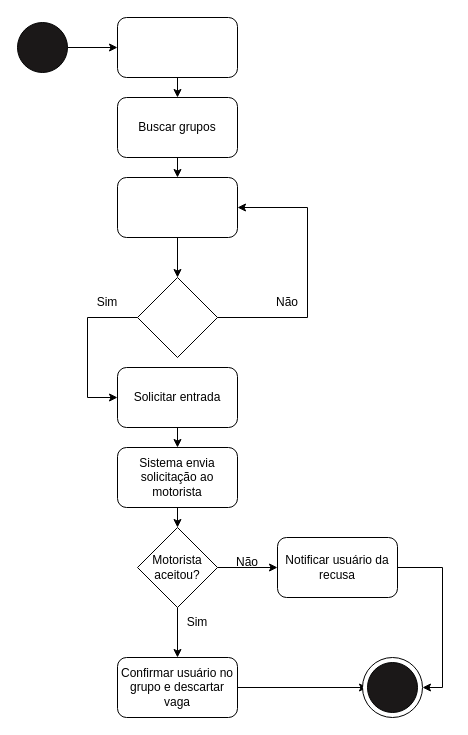
This 468x735 diagram has some shape labels left out. The box of each missing label's shape, as (x1, y1, x2, y2) in pixels:
Fazer login: (116, 16, 238, 78)
Selecionar grupo desejado: (116, 176, 238, 238)
Vaga disponível?: (136, 276, 218, 358)
